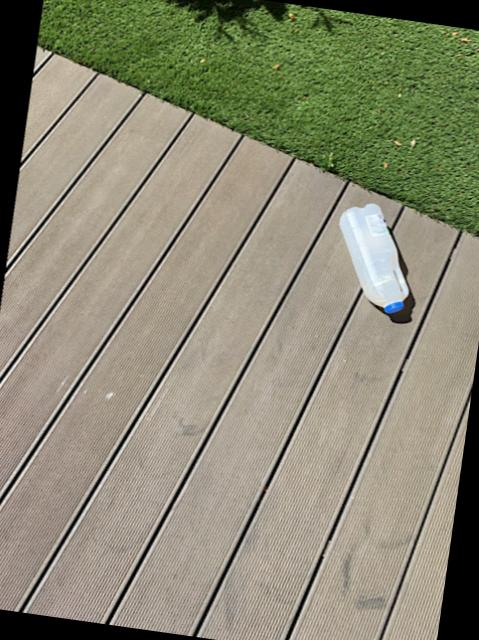plastic: (340, 203, 409, 312)
